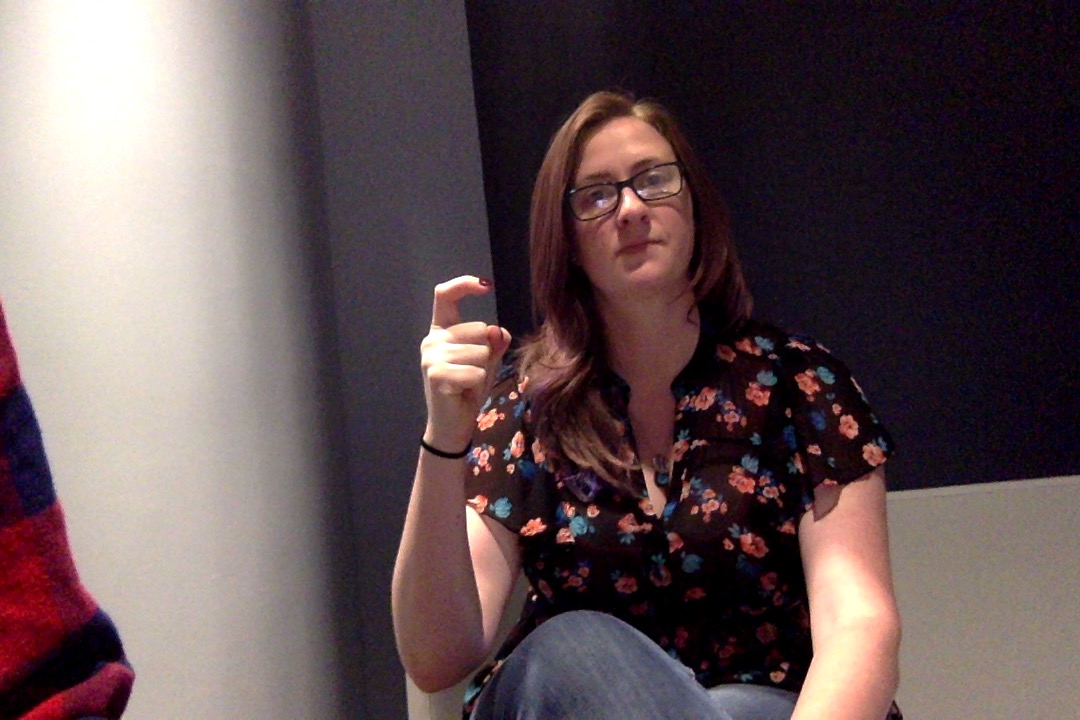x: (400, 264, 525, 437)
